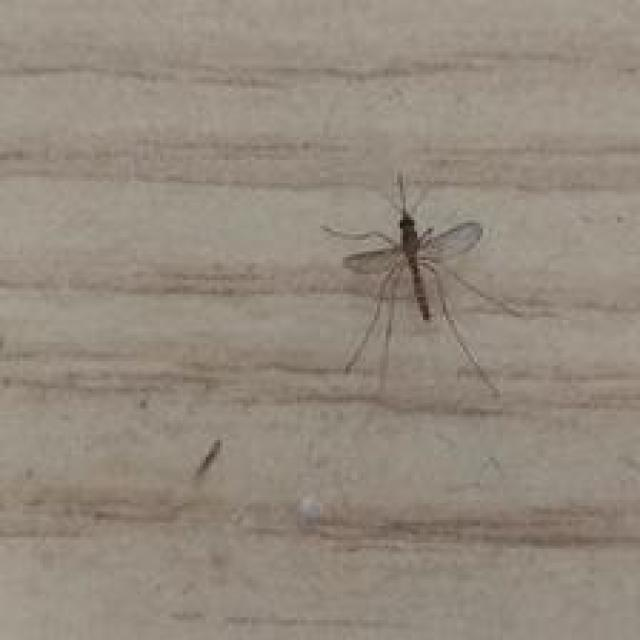Culex: (318, 169, 556, 400)
